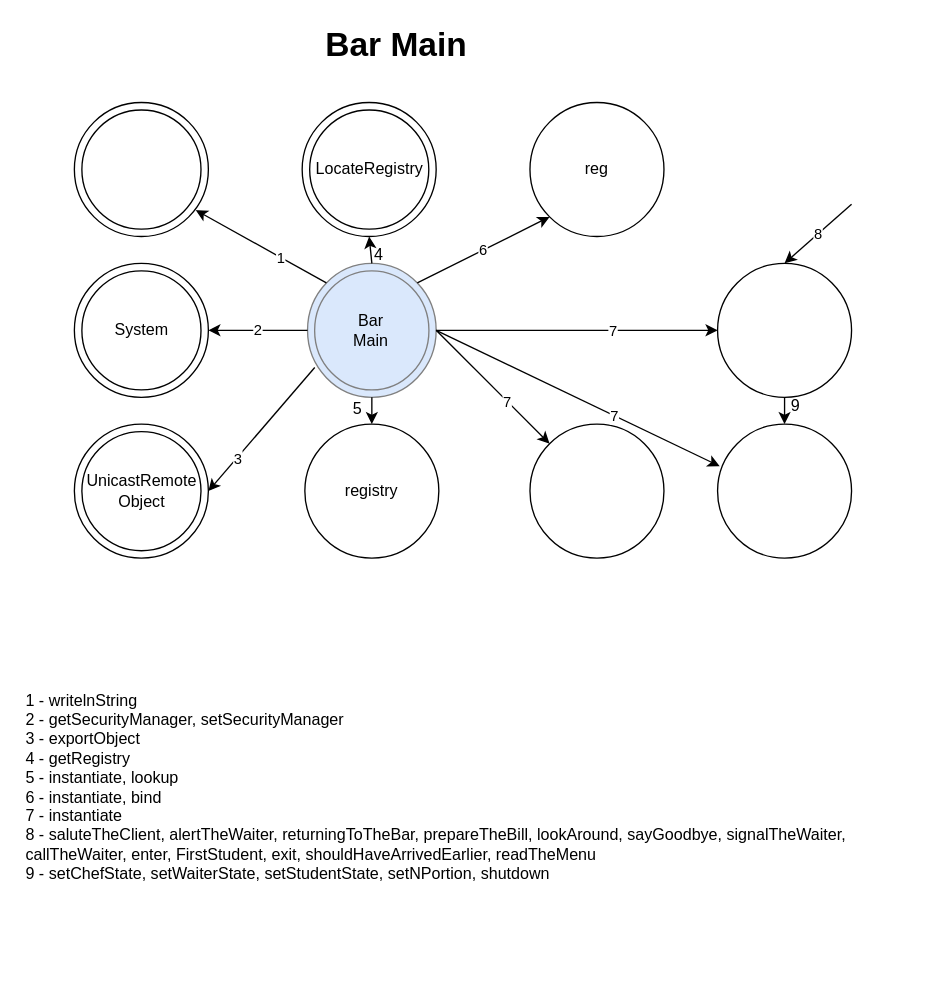
This 927x1004 diagram has some shape labels left out. The shapes that lost their labels are listed below. From the top down, each one's centre as x and y in pixels, then its label:
At point (141, 169): "GenericIO".
At point (784, 329): "bar".
At point (596, 490): "barStub".
At point (784, 490): "reposStub".
